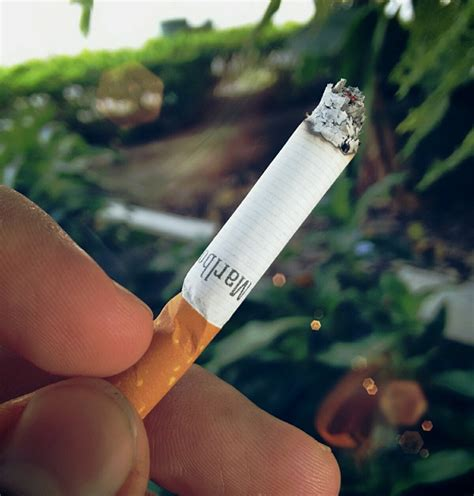cigarette: (103, 78, 364, 426)
